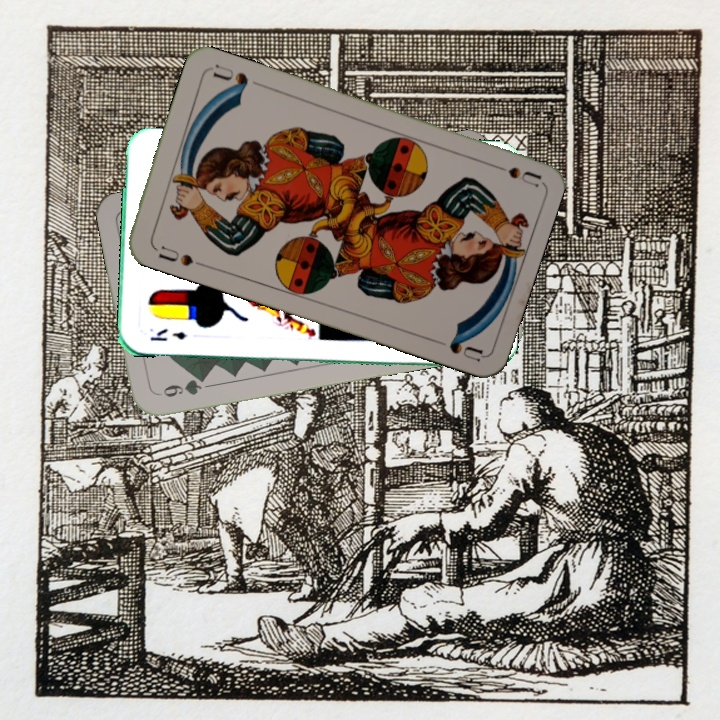EK: (146, 324, 189, 344)
G9: (153, 372, 209, 400)
SU: (483, 158, 542, 189), (154, 241, 206, 270)
